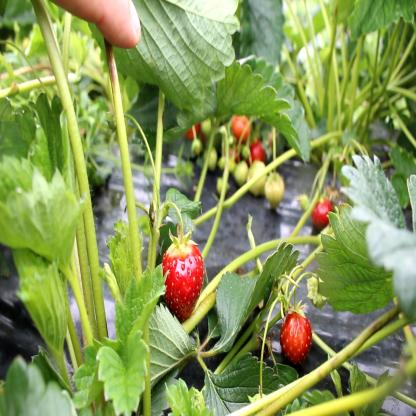ripe: (164, 236, 207, 324), (280, 309, 315, 369), (310, 198, 335, 231), (231, 112, 254, 146), (266, 173, 285, 211), (249, 139, 268, 166)
unripe: (245, 158, 266, 198), (234, 156, 248, 189)
